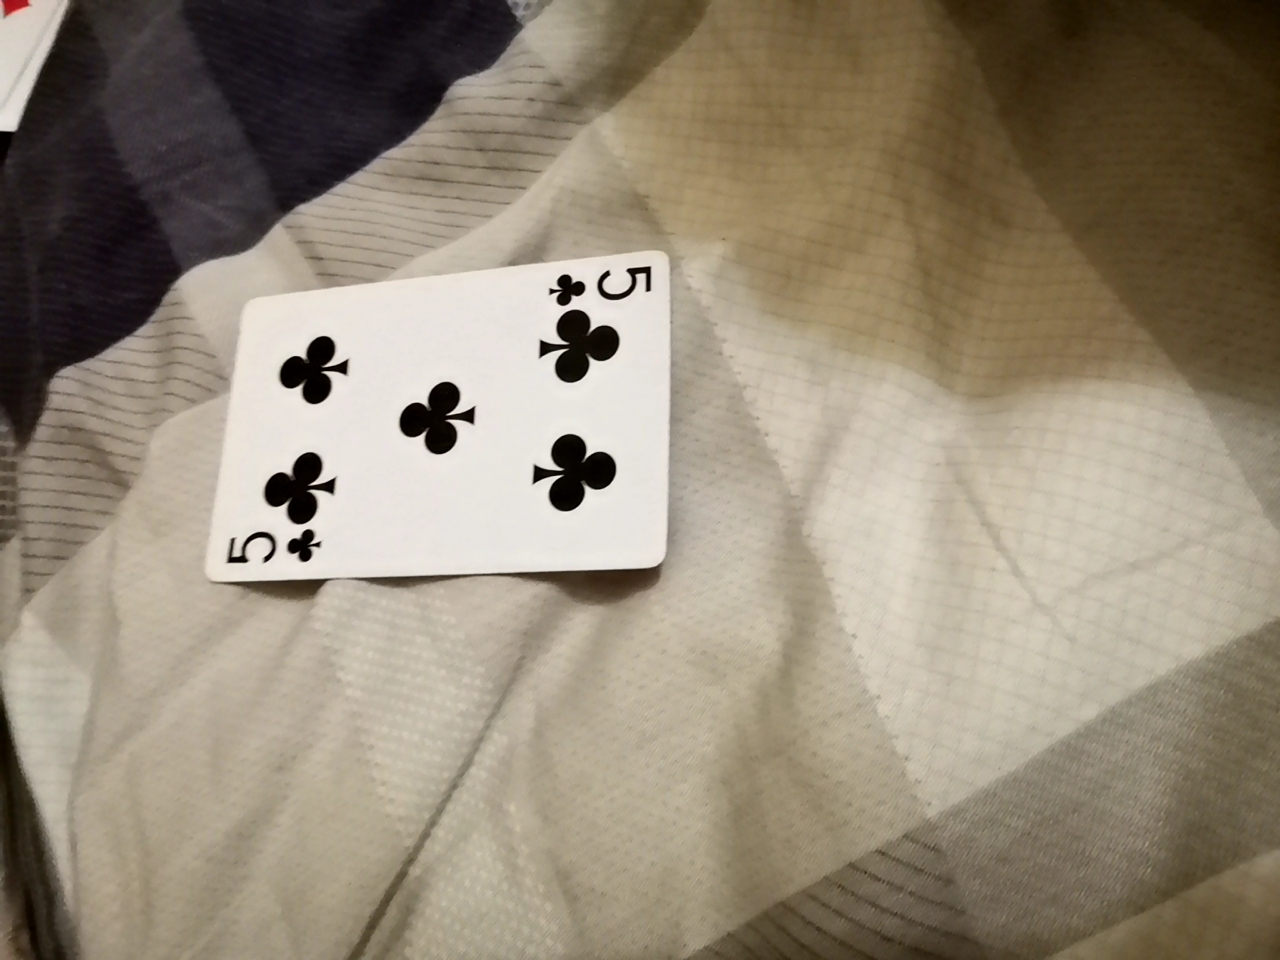mh 5: (229, 254, 670, 595)
